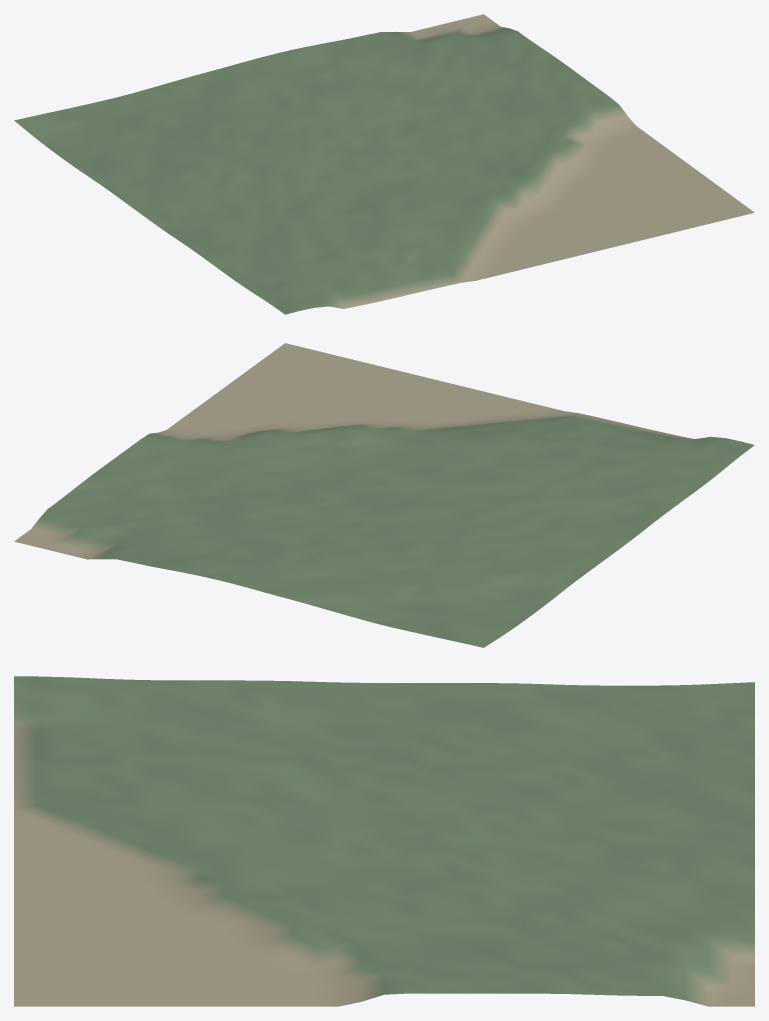
3 renders of one model, top to bottom at view 1: azimuth 30°, elevation 25°; view 2: azimuth 150°, elevation 25°; view 3: azimuth 270°, elevation 25°, orthographic. The views are drawn at different scales.
Visible parts, largest first — view 1: Terrain-col; view 2: Terrain-col; view 3: Terrain-col.
Boxes of the visible parts, x1,y1,x2,y2 form: Terrain-col: (14, 14, 754, 314); Terrain-col: (14, 343, 754, 647); Terrain-col: (14, 676, 754, 1006).
Size of the model in its own units: 256 by 6.71 by 256.
